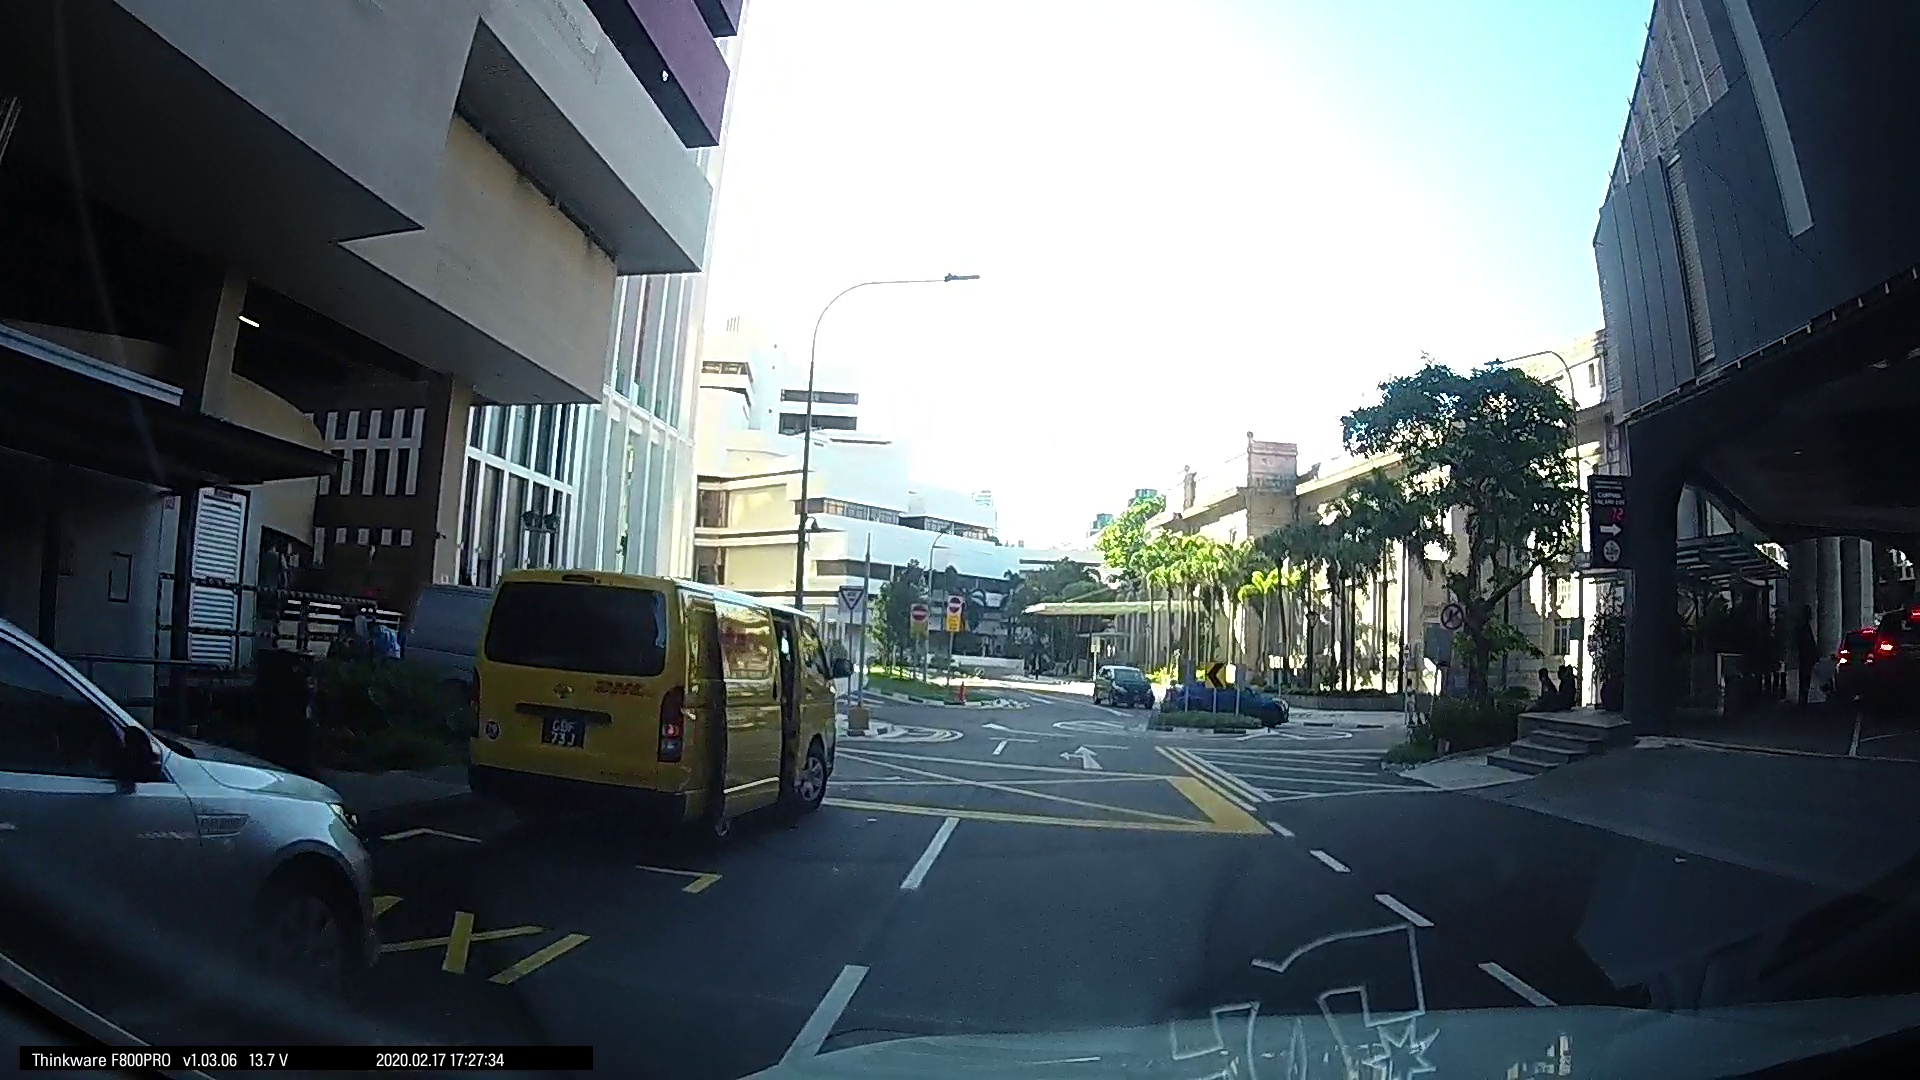Light Vehicle: (1, 640, 386, 1021), (455, 567, 827, 843), (1092, 659, 1158, 705)
